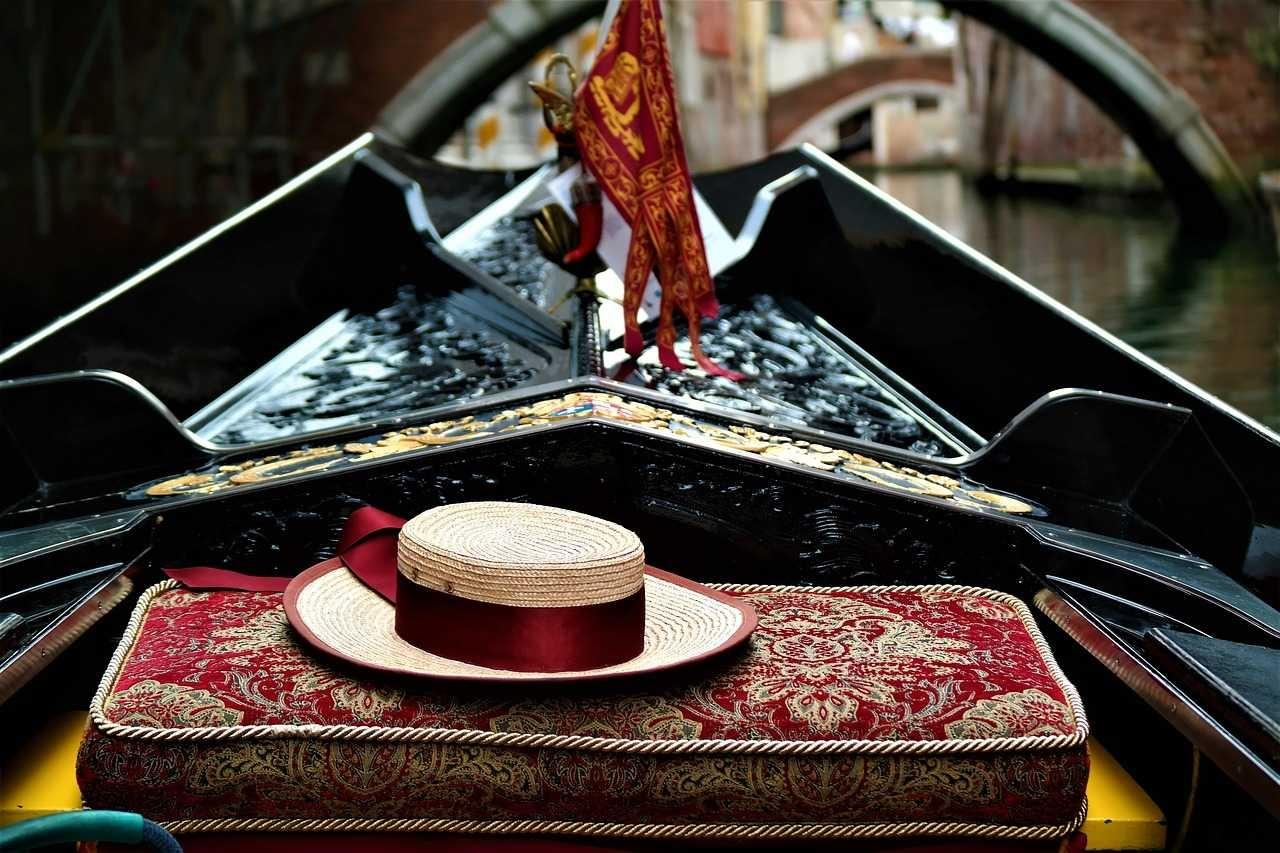kayak: (1, 9, 1277, 849)
